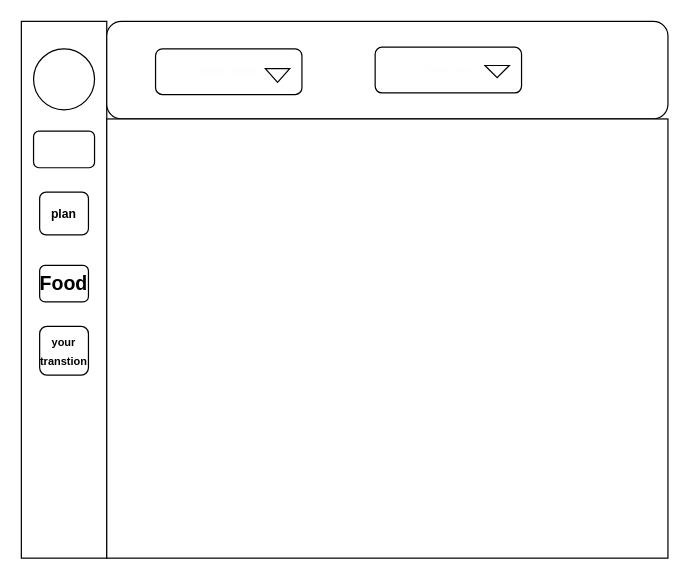
Image size: 689x580. Some labels were removed from this diagram. Each missing label, with the centre of its shape:
img: point 63,79
work out: point 63,149
